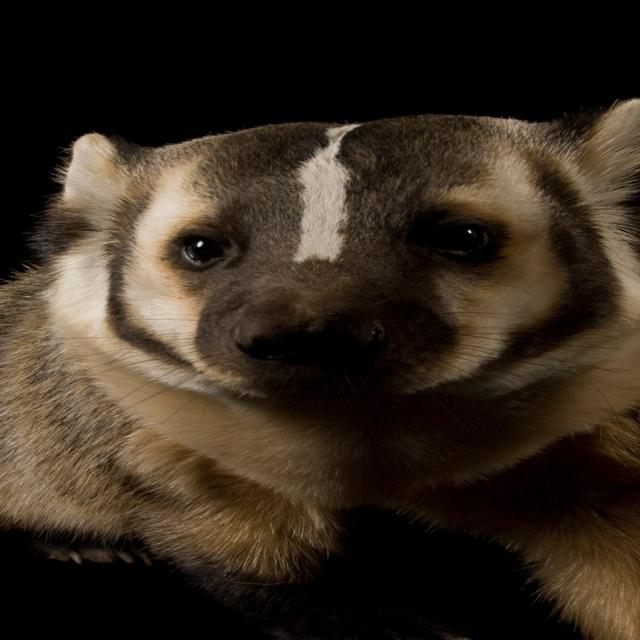Badger: (0, 95, 640, 589)
